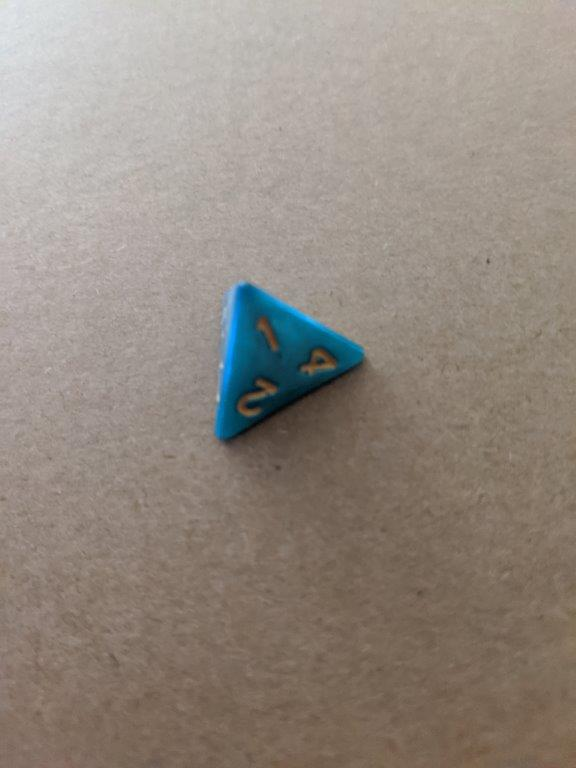d4-1: (213, 277, 365, 447)
